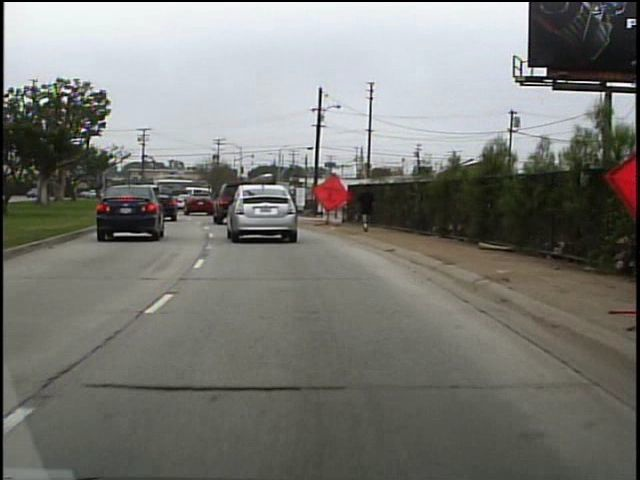person: (355, 179, 381, 234)
